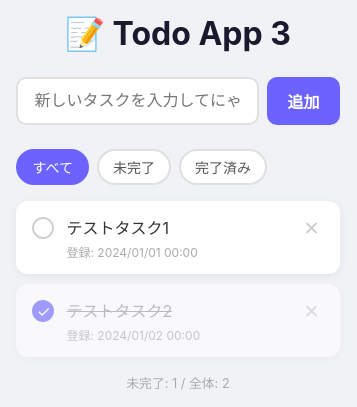
Test case: TodoApp › フィルター機能 › 「未完了」フィルターで未完了のTodoのみ表示される
This screenshot has width=357, height=407.
Check: the text "テストタスク1" is shown, box [66,218,169,238]
Step 1. Click the button "未完了" → (134, 167), box [97,149,171,185]
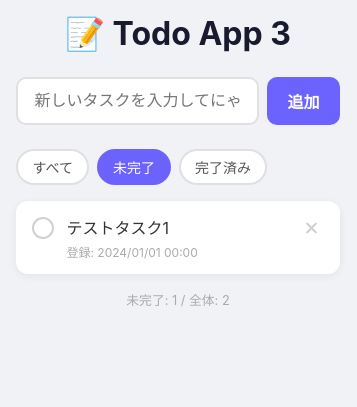
Check: the text "テストタスク1" is shown, box [66,218,169,238]
Check: the text "テストタスク2" is gone
